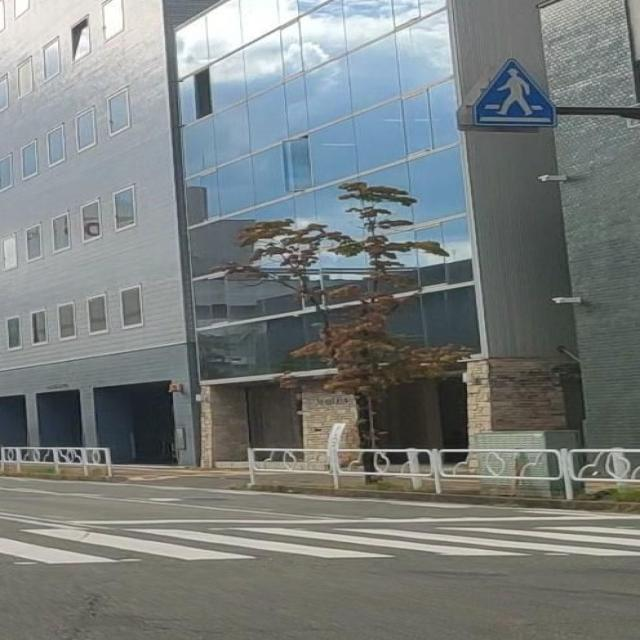dogwood: (207, 181, 479, 484)
